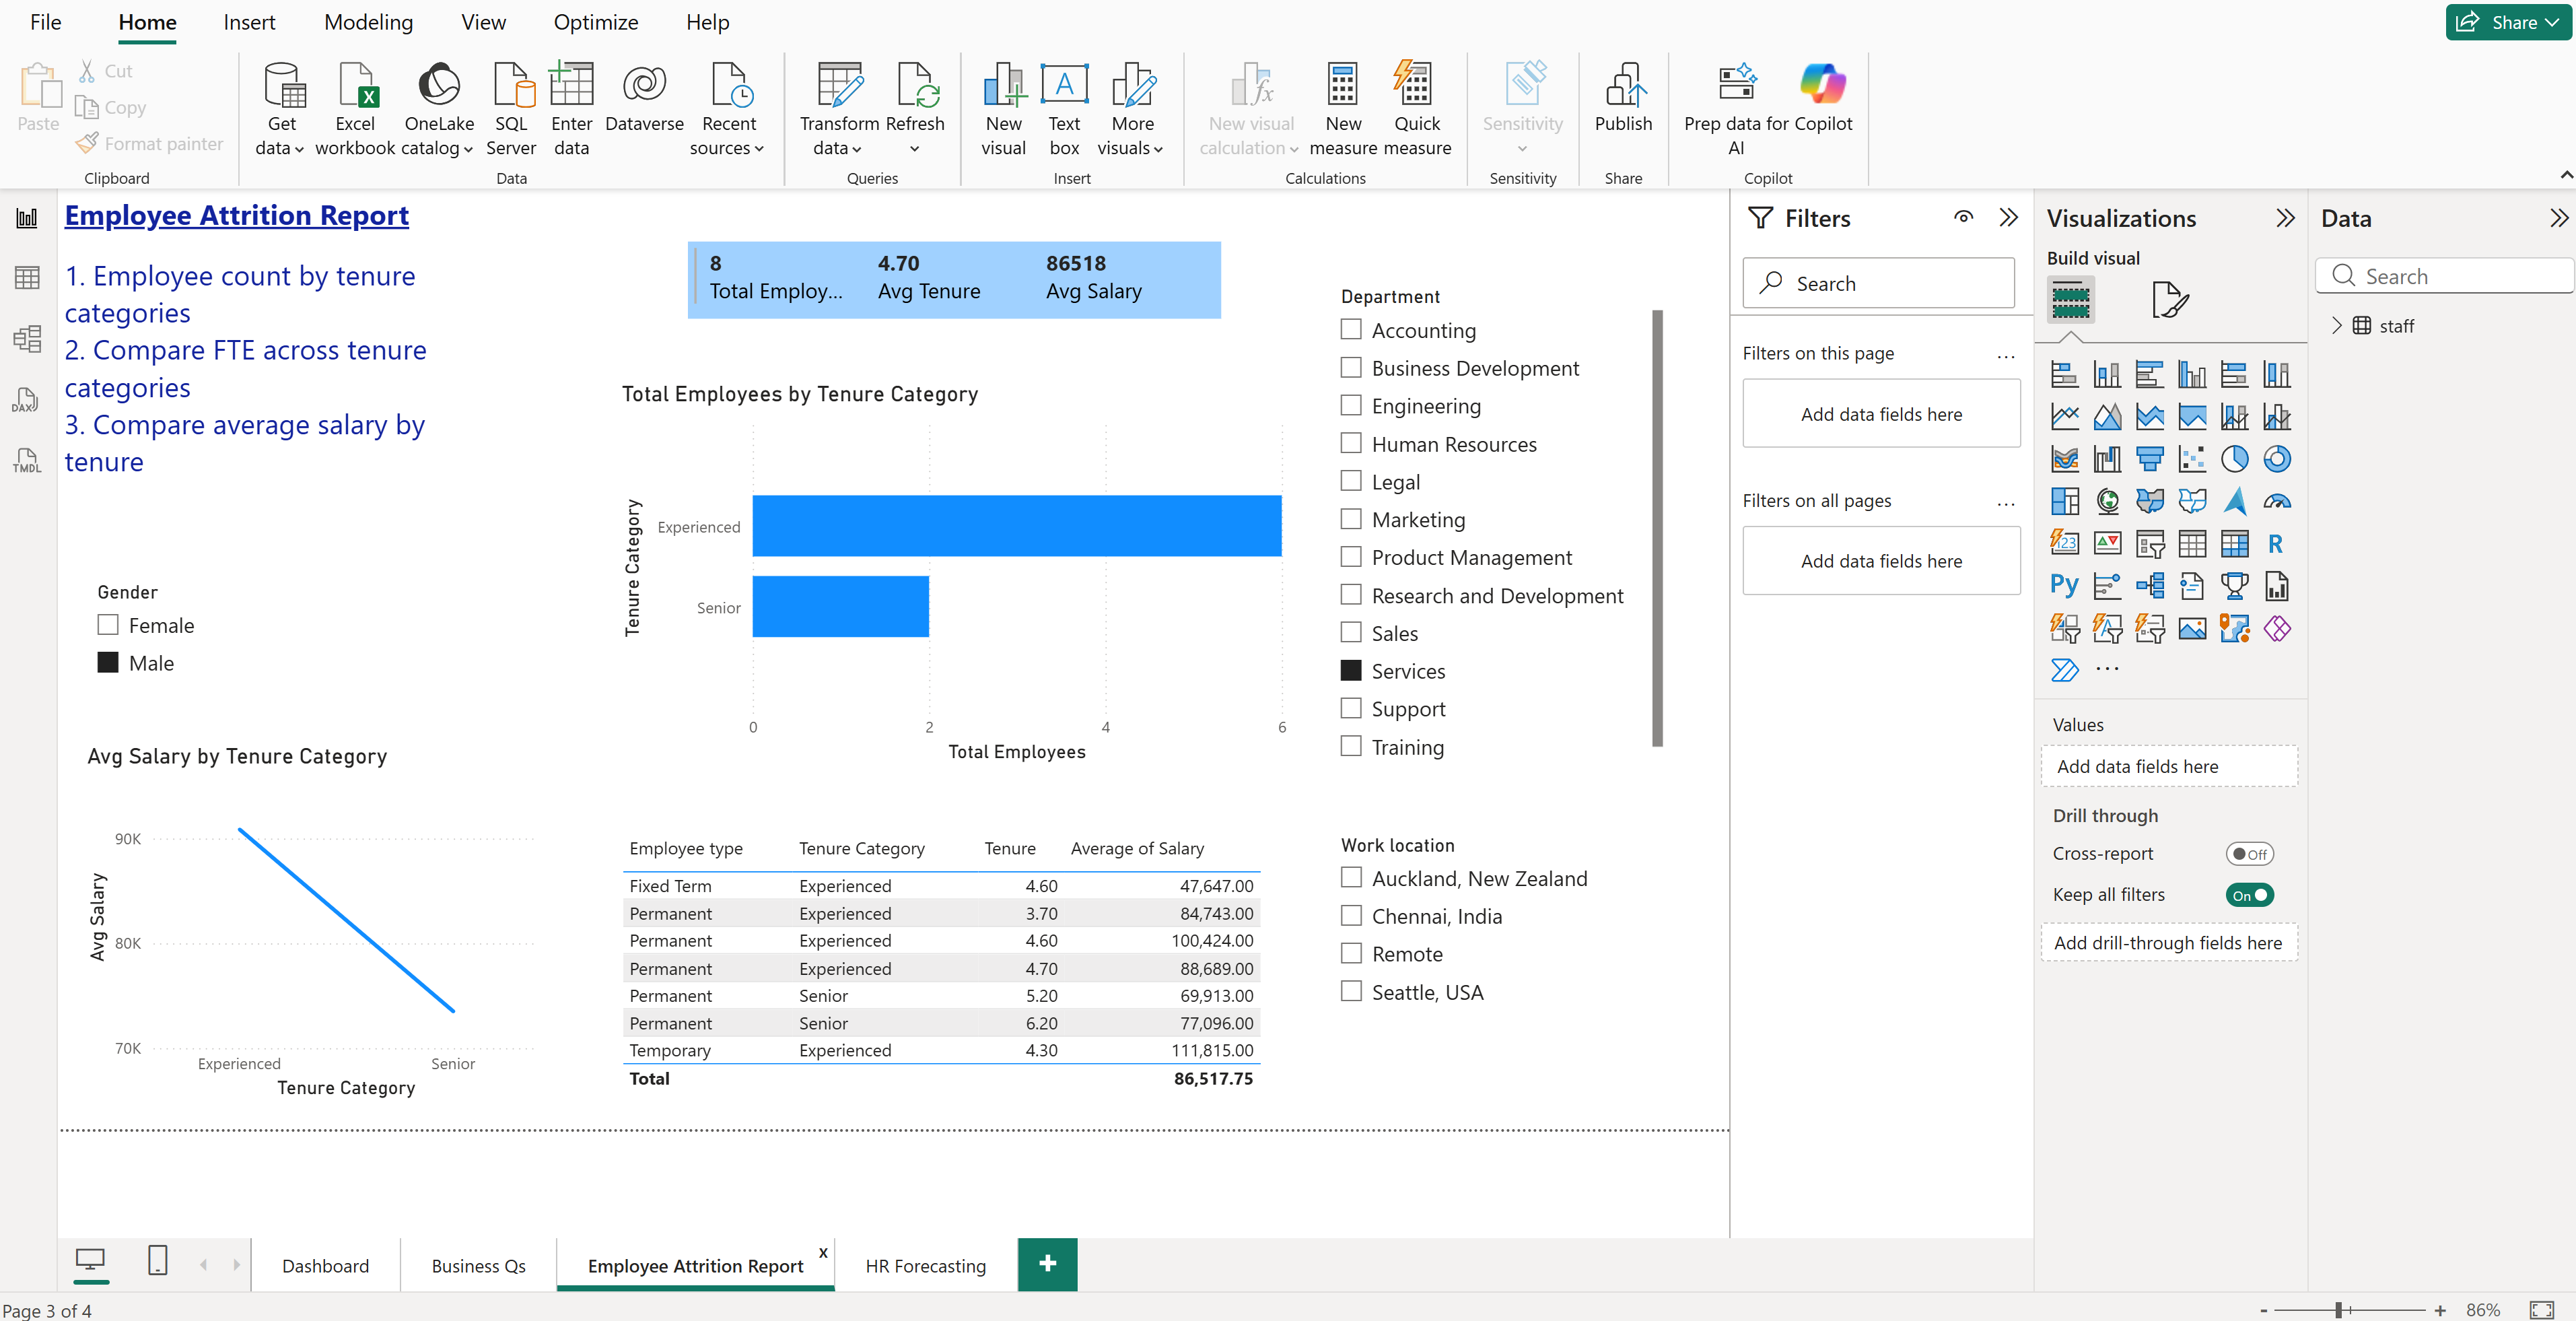

What the dashboard file says about the page in this screenshot:
{"tool":"powerbi","page":{"name":"Employee Attrition Report","canvas":[1280,720],"ordinal":2},"visuals":[{"type":"barChart","fields":{"Category":["staff.Tenure Category"],"Y":["staff.Total Employees"]},"box":[426.8,147.3,519.6,296.9],"z":0},{"type":"lineChart","fields":{"Y":["staff.Avg Salary"],"Category":["staff.Tenure Category"]},"box":[17.4,424.5,356.1,277.2],"z":1000},{"type":"tableEx","fields":{"Values":["staff.Employee type","staff.Tenure Category","staff.Tenure","Avg(staff.Salary)"]},"box":[426.8,489.5,499.9,207.6],"z":2000},{"type":"multiRowCard","fields":{"Values":["staff.Total Employees","staff.Avg Tenure","staff.Avg Salary"]},"box":[482.5,40.6,408.3,59.2],"z":3000},{"type":"slicer","fields":{"Values":["staff.Department"]},"box":[969.7,69.6,264.5,374.6],"z":4000},{"type":"slicer","fields":{"Values":["staff.Gender"]},"box":[17.4,295.8,264.5,94],"z":5000},{"type":"slicer","fields":{"Values":["staff.Work location"]},"box":[969.7,489.5,303.9,212.3],"z":6000},{"type":"textbox","box":[0,0,290,287.7],"z":7000}]}

Visuals, with their boxes on the page's 1280x720 design canvas (x1, y1, x2, y2). These are canvas units, not pixel positions in the 2576x1321 screenshot, which may show the page scaled, cropped or inside an application window:
barChart - staff.Tenure Category x staff.Total Employees: box(427, 147, 946, 444)
lineChart - staff.Avg Salary x staff.Tenure Category: box(17, 424, 374, 702)
tableEx - staff.Employee type x staff.Tenure Category: box(427, 490, 927, 697)
multiRowCard - staff.Total Employees x staff.Avg Tenure: box(482, 41, 891, 100)
slicer - staff.Department: box(970, 70, 1234, 444)
slicer - staff.Gender: box(17, 296, 282, 390)
slicer - staff.Work location: box(970, 490, 1274, 702)
textbox: box(0, 0, 290, 288)
